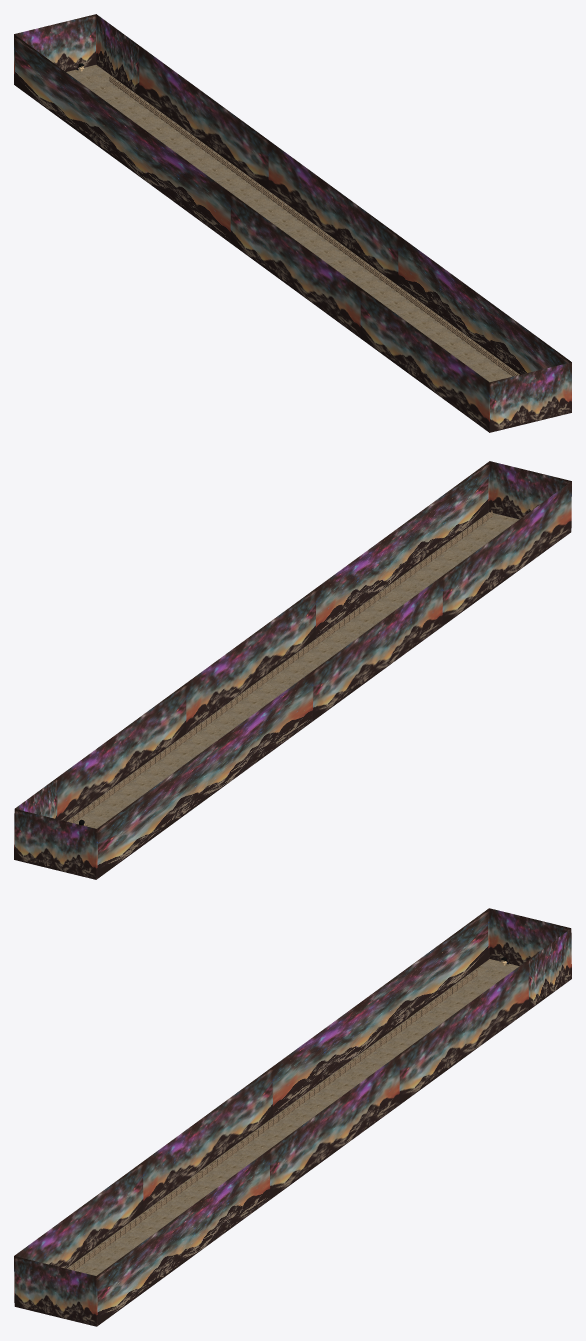
File: WorldSquidGames1.glb
3 renders of one model, top to bottom at view 1: azimuth 30°, elevation 25°; view 2: azimuth 150°, elevation 25°; view 3: azimuth 330°, elevation 25°, orthographic.
Parts seen in each view (by area): view 1: Walls, Floor, WoodenFence; view 2: Walls, Floor, WoodenFence; view 3: Walls, Floor, WoodenFence.
Boxes of the visible parts, box(x1,y1,x2,y2) form: Walls: box(14, 14, 571, 432); Floor: box(66, 64, 519, 382); WoodenFence: box(109, 75, 519, 376); Walls: box(14, 461, 571, 879); Floor: box(67, 512, 519, 828); WoodenFence: box(67, 510, 492, 823); Walls: box(14, 908, 571, 1326); Floor: box(66, 959, 519, 1275); WoodenFence: box(68, 969, 477, 1270).
Size of the model in its own units: 10.03 by 5.91 by 100.
8 materials, 3 textured.
